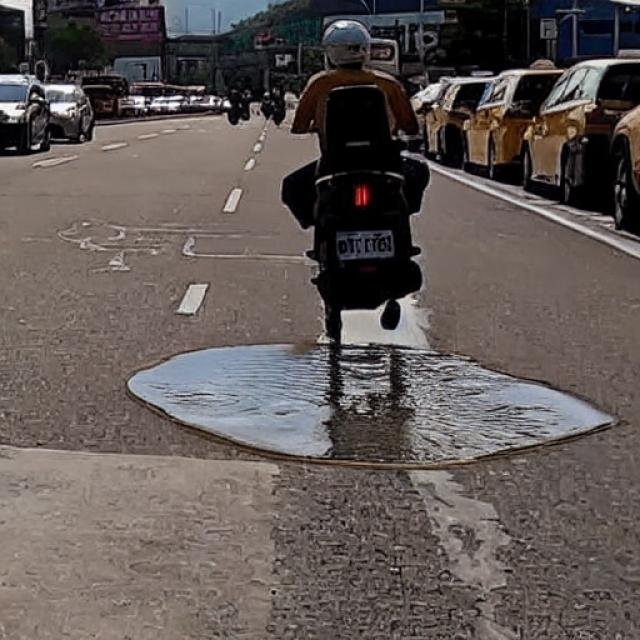puddle: (127, 340, 621, 466)
